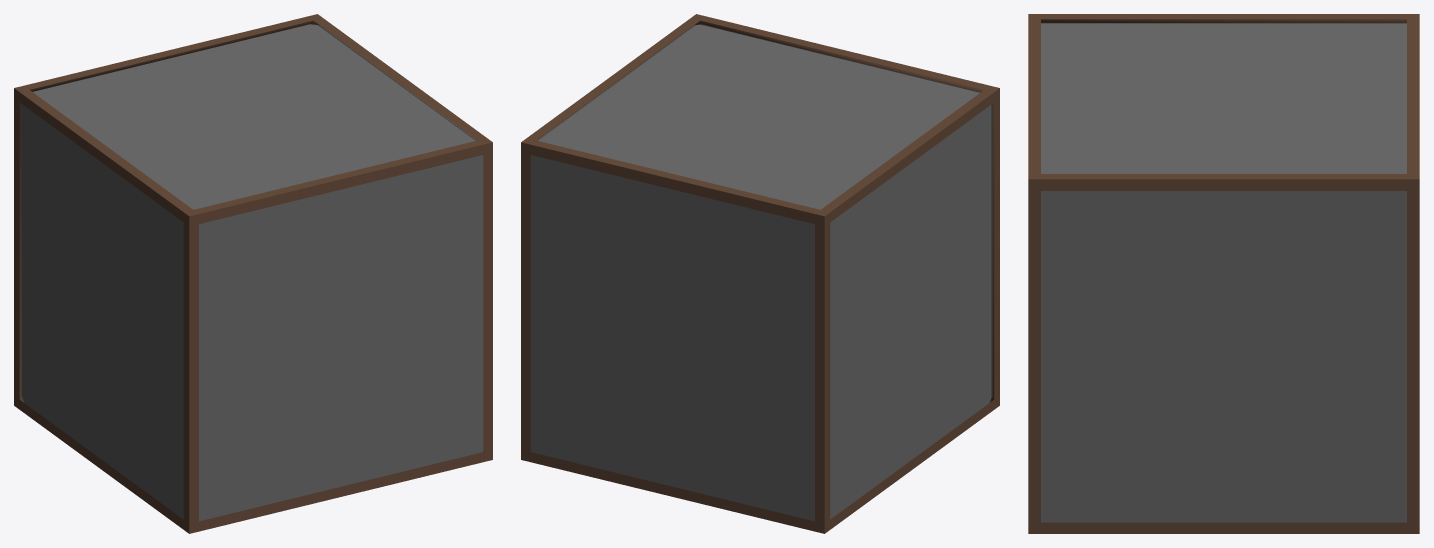
The model's file is transparent box.FBX.
3 renders of one model, left to right at view 1: azimuth 30°, elevation 25°; view 2: azimuth 150°, elevation 25°; view 3: azimuth 270°, elevation 25°, orthographic. The views are drawn at different scales.
Parts seen in each view (by area): view 1: Object002; view 2: Object002; view 3: Object002.
Boxes of the visible parts, x1=… form: Object002: x1=14, y1=14, x2=492, y2=533; Object002: x1=521, y1=14, x2=999, y2=533; Object002: x1=1028, y1=14, x2=1419, y2=533.
Bounding box in the file's own units: 57.58 × 57.55 × 57.58.
